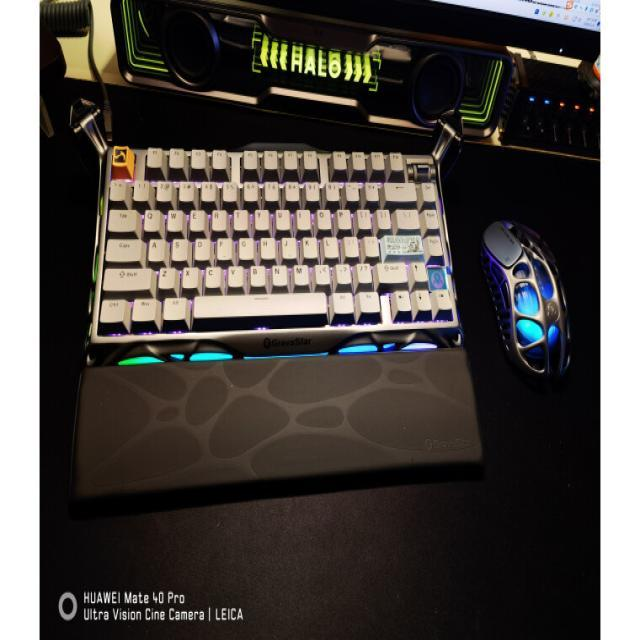klavye: (88, 144, 464, 354)
